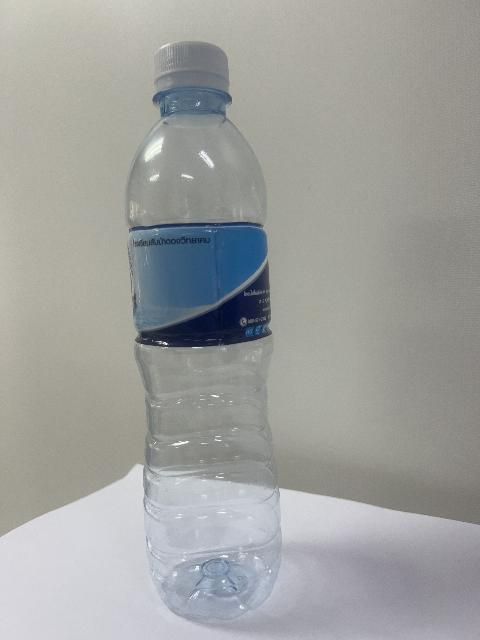bottle: (126, 42, 281, 621)
